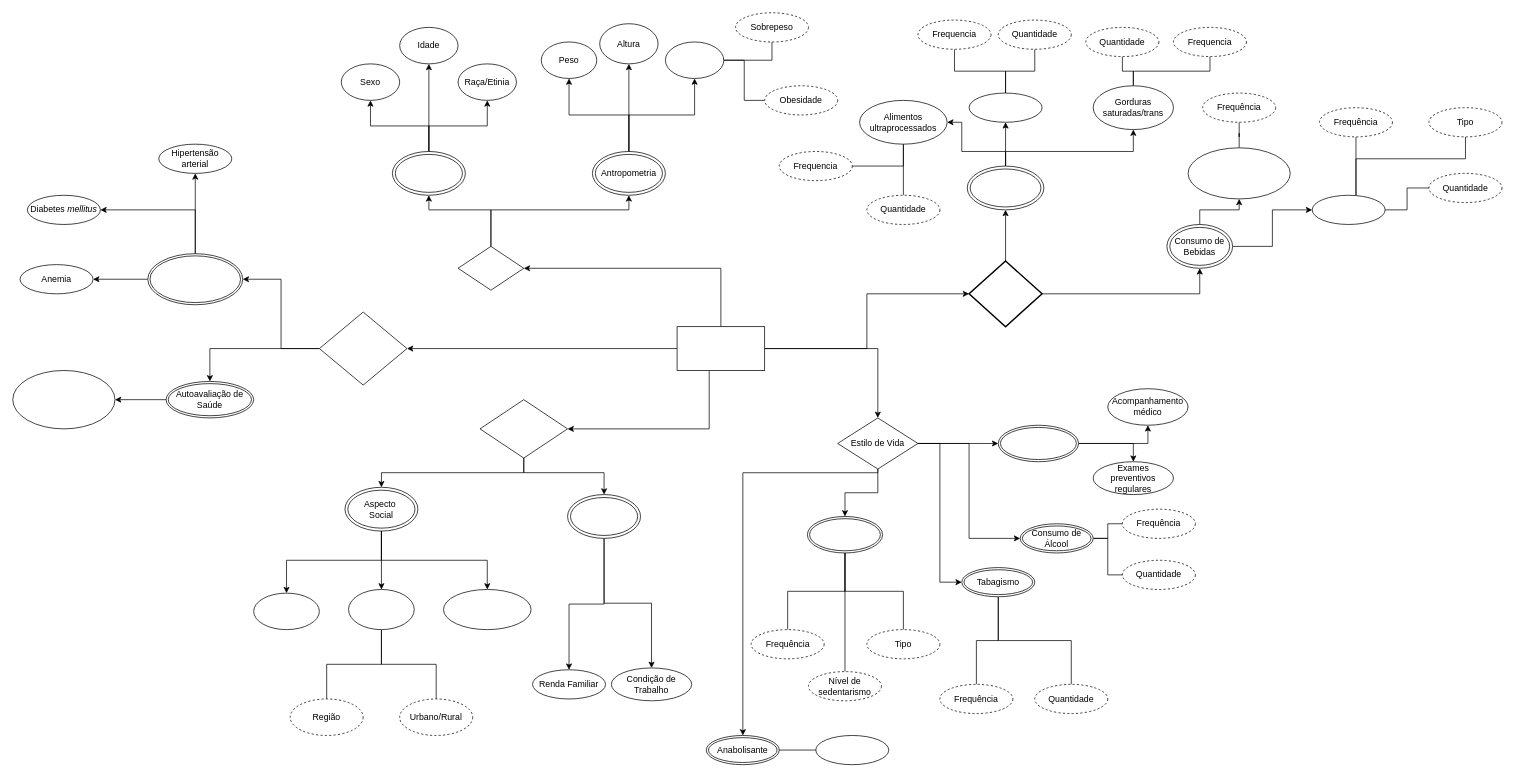
The diagram is 1515 pixels wide and 777 high, and some of its shapes have lost their labels. The centre of each missing label's shape, as x and y in pixels:
Acesso a serviço de saúde: (487,609)
Aspecto Econômico: (604,516)
Atividades Físicas: (845,534)
Bebidas Alcoolicas: (1348,209)
Bebidas Açucaradas/Energeitcas: (1238,173)
Caracteristica Socioeconomica: (523,428)
Características do Individuo: (428,173)
Colesterol Alto: (720,348)
Condições de Saúde: (363,348)
Consumo de Alimentos: (1005,187)
Cuidados em Saúde: (1038,443)
Demografia: (490,268)
Doenças Crônicas Não Transmissíveis: (195,279)
Escolaridade: (286,611)
Fibras: (1005,107)
Habitos alimentares: (1005,293)
IMC: (694,59)
Local de Residencia: (381,609)
Percepção do estado de saúde: (63,399)
Período de uso: (852,750)
